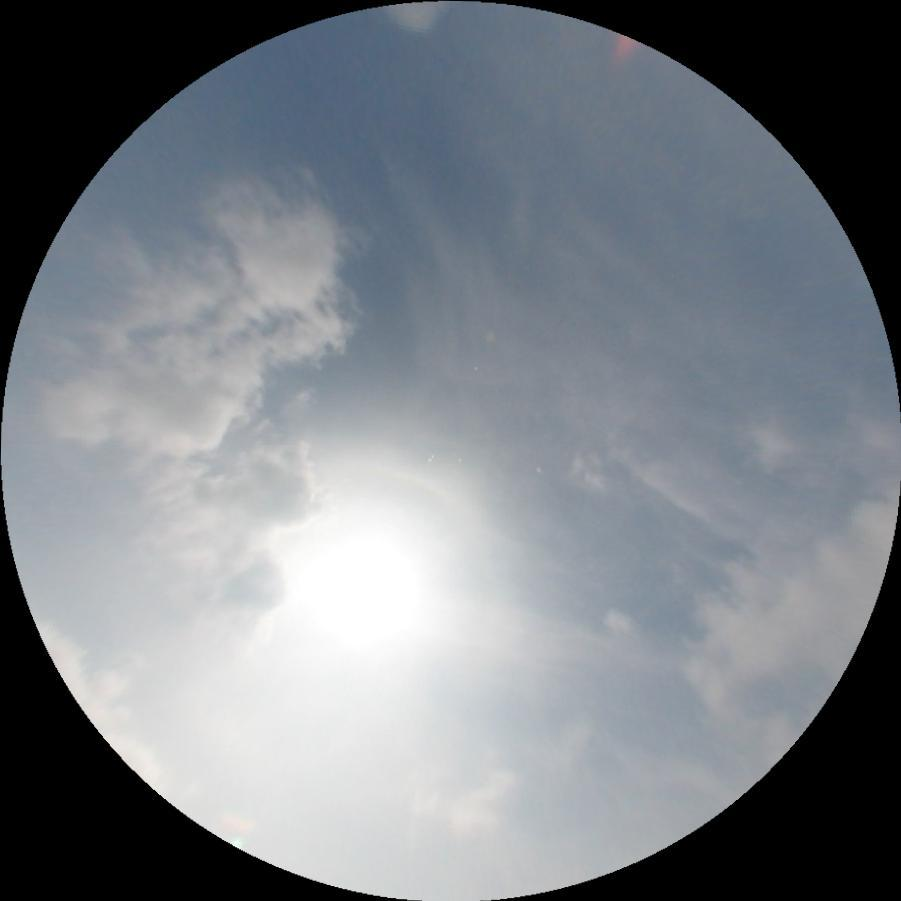sun: (279, 518, 443, 685)
